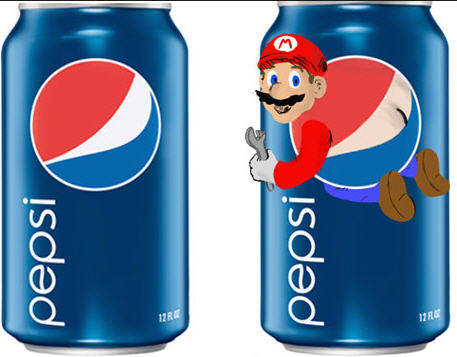pepsi: (287, 51, 421, 188), (31, 59, 158, 188), (31, 62, 158, 188)
